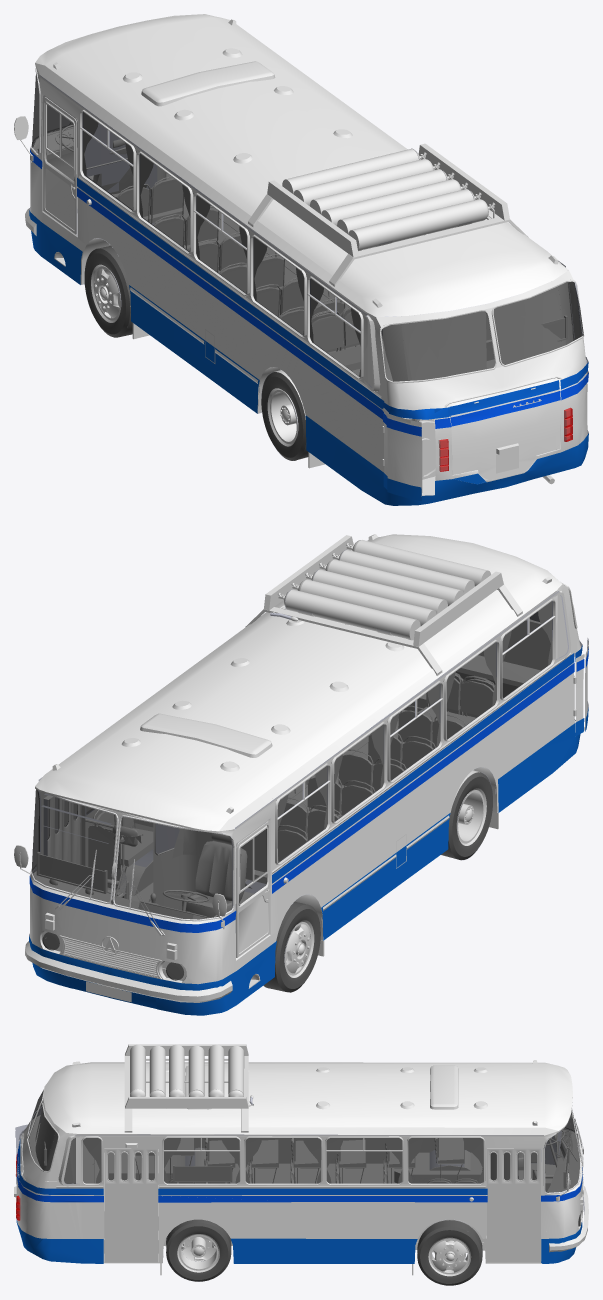
The model's file is laz_695.glb.
3 views of the same model, one above another, from view 1: azimuth 30°, elevation 25°; view 2: azimuth 150°, elevation 25°; view 3: azimuth 270°, elevation 25° (orthographic). The views are drawn at different scales.
Parts seen in each view (by area): view 1: Material3 (×7), Material2 (×2); view 2: Material2 (×2), Material3 (×7); view 3: Material3 (×7), Material2 (×2).
Boxes of the visible parts, x1,y1,x2,y2 form: Material3 (×7): [29, 14, 588, 505]; Material2 (×2): [14, 19, 584, 495]; Material2 (×2): [14, 534, 588, 1002]; Material3 (×7): [29, 534, 588, 1015]; Material3 (×7): [15, 1062, 584, 1285]; Material2 (×2): [14, 1044, 588, 1276].
Size of the model in its own units: 12.15 by 13.89 by 39.37.
